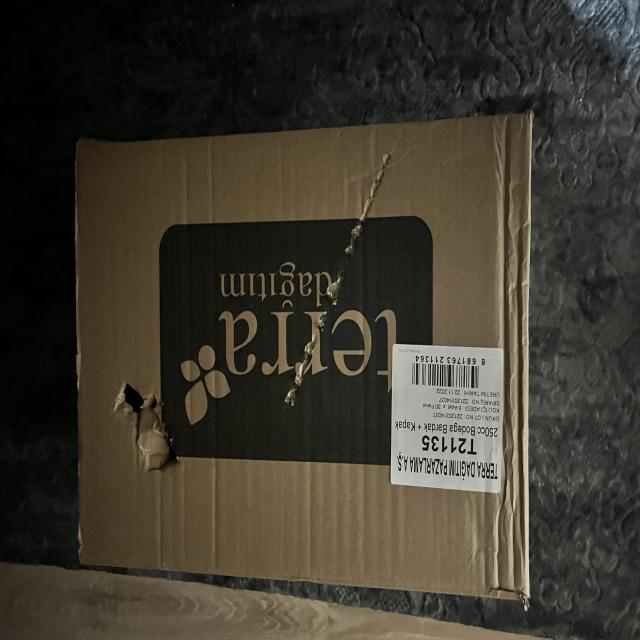damaged: (63, 102, 552, 606), (276, 141, 400, 417), (496, 118, 534, 606), (105, 365, 188, 480)
